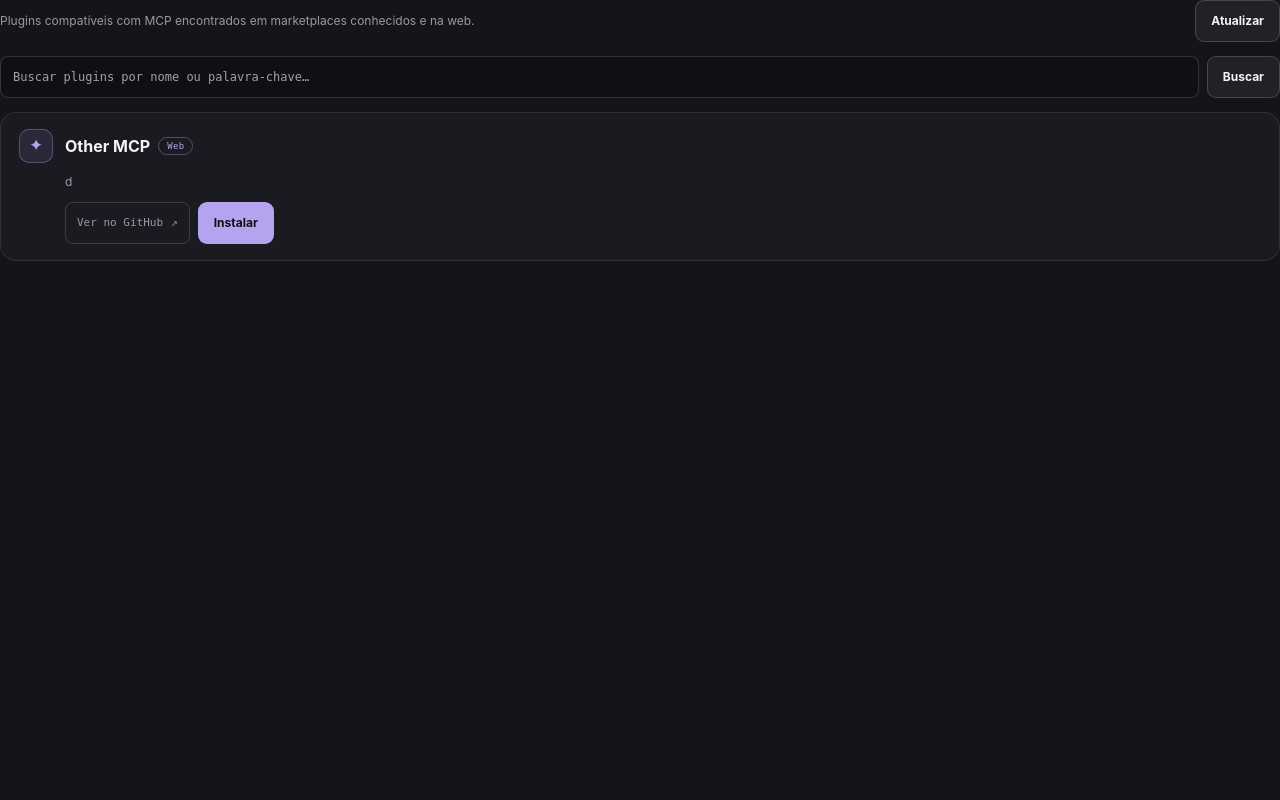
Test: lists library entries and opens the install dialog pre-filled and inspected
The image size is (1280, 800).
Expected: the text "Other MCP" is shown, [65,134,150,158]
Click the button "Instalar". click: click(236, 223)
box: [198,202,274,244]
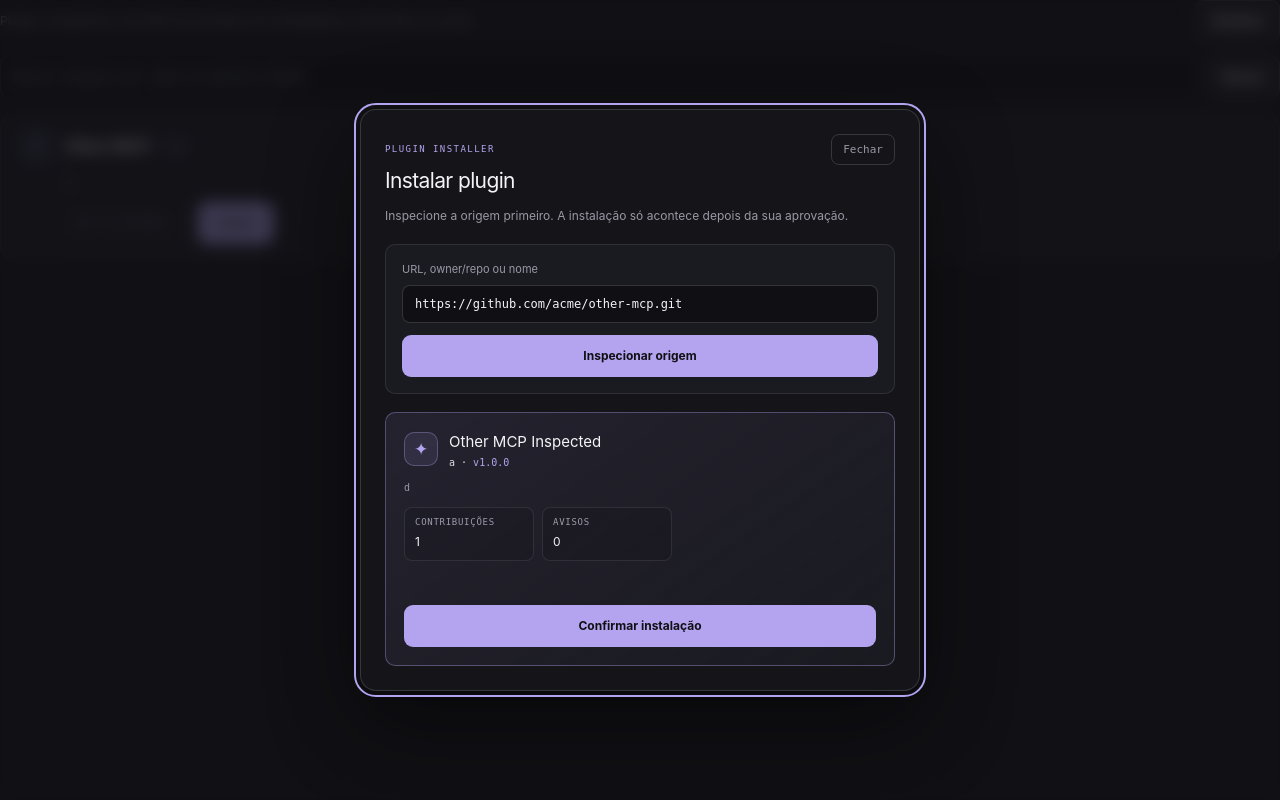
Expected: the heading "Other MCP Inspected" is shown, [449,430,601,453]
Expected: the field showing "https://github.com/acme/other-mcp.git" is shown, [402,284,878,322]
